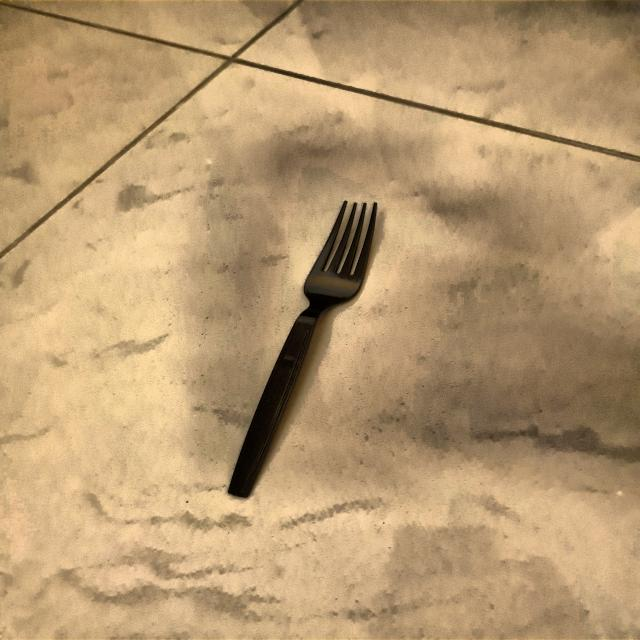plastic utensil: (216, 199, 392, 502)
